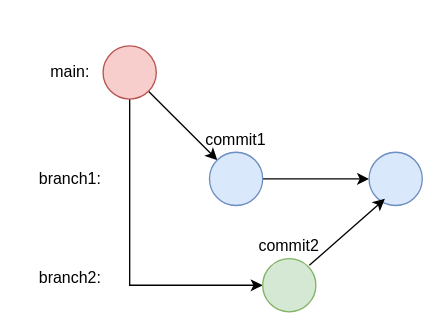
Image size: 447x335. Some labels were removed from this diagram. Each missing label, with the box of its shape:
init: (102, 45, 156, 99)
merge branch2: (368, 151, 422, 205)
